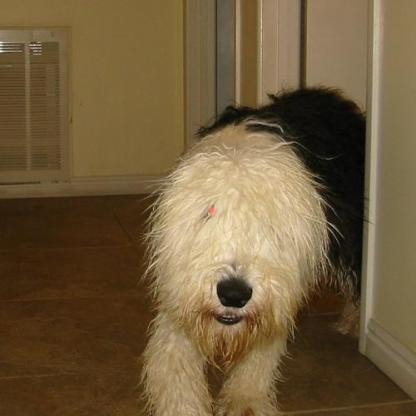Old_English_sheepdog: (138, 86, 363, 414)
